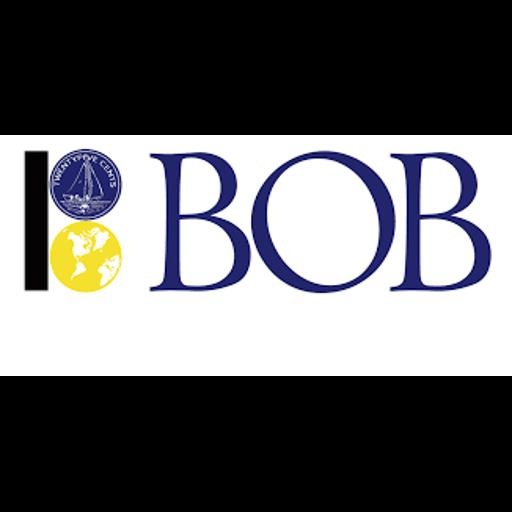Bank of The Bahamas Limited: (0, 135, 512, 376)
